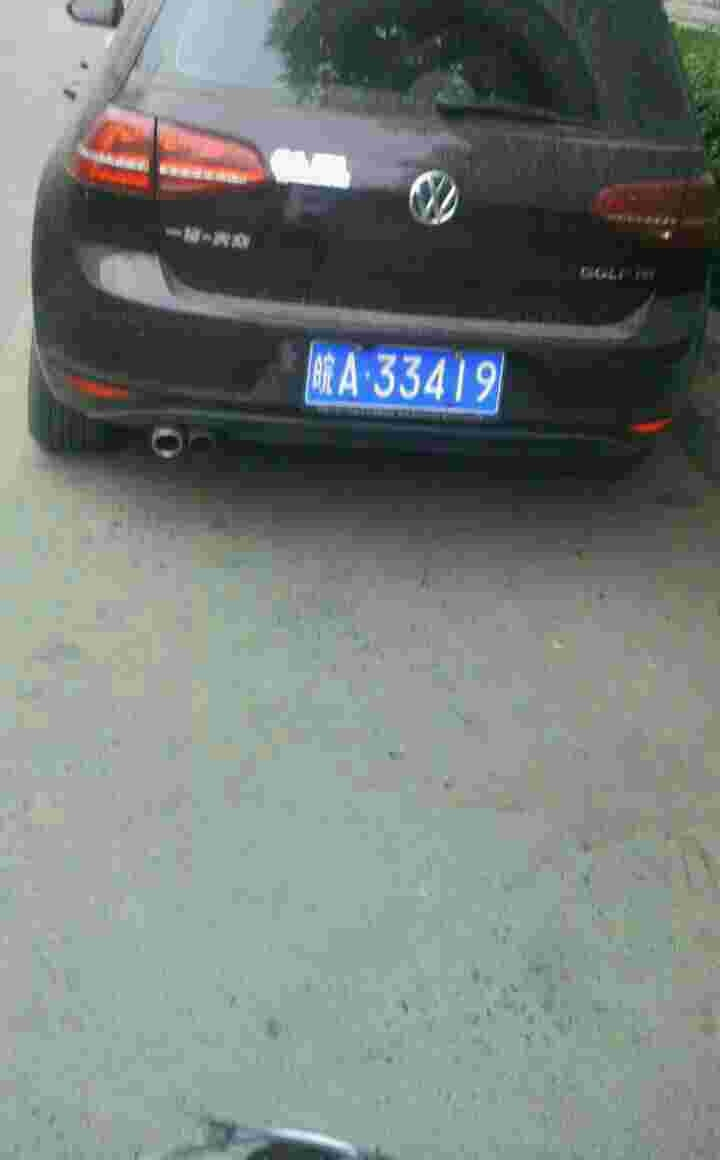license_plate: (304, 339, 519, 420)
